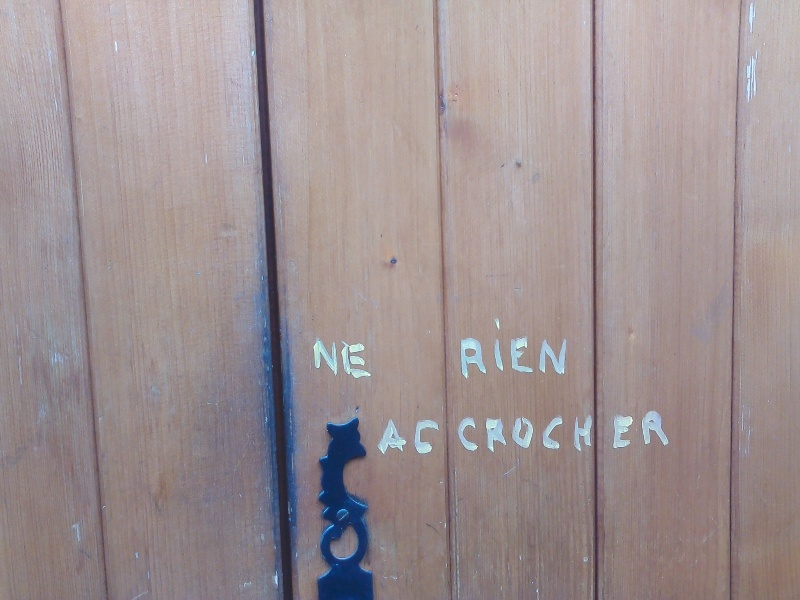text: (465, 318, 480, 380), (481, 318, 496, 380), (497, 318, 512, 380), (513, 318, 528, 380), (529, 318, 544, 380), (545, 318, 560, 380), (321, 336, 336, 383), (337, 336, 352, 383), (353, 336, 368, 383), (561, 318, 571, 380), (385, 418, 400, 459), (401, 418, 416, 459), (417, 418, 432, 459), (625, 409, 640, 449), (641, 409, 656, 449), (657, 409, 672, 449), (465, 415, 480, 454), (481, 415, 496, 454), (497, 415, 512, 454), (513, 415, 528, 454), (529, 415, 544, 454), (545, 415, 560, 454), (561, 415, 576, 454), (577, 415, 592, 454), (613, 409, 624, 449), (312, 336, 320, 383), (458, 318, 464, 380), (433, 418, 442, 459), (455, 415, 464, 454), (369, 336, 374, 383), (381, 418, 384, 459), (593, 415, 594, 454)
